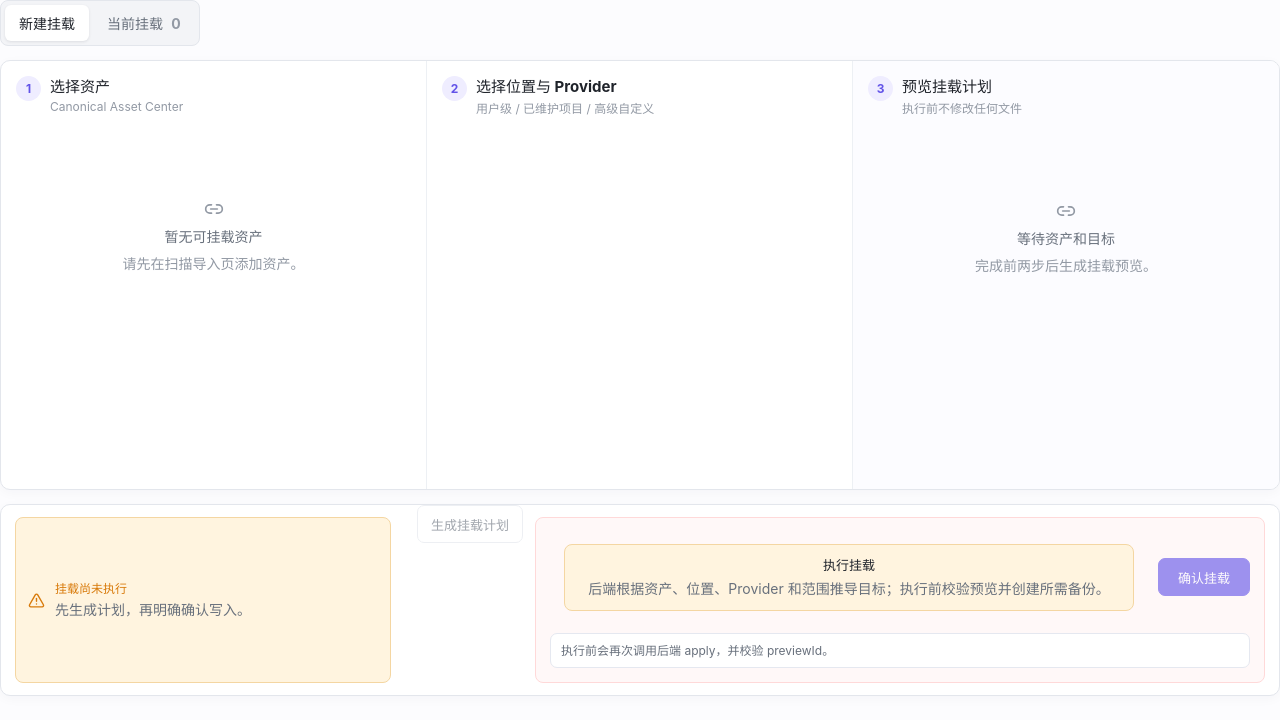
Test: remaining V1 static pages › updates the Mount asset and target preview
Expected: the text "暂无可挂载资产" is shown, [164,226,262,246]
Click the tab "当前挂载 0".
click(144, 23)  # box [93,5,195,41]
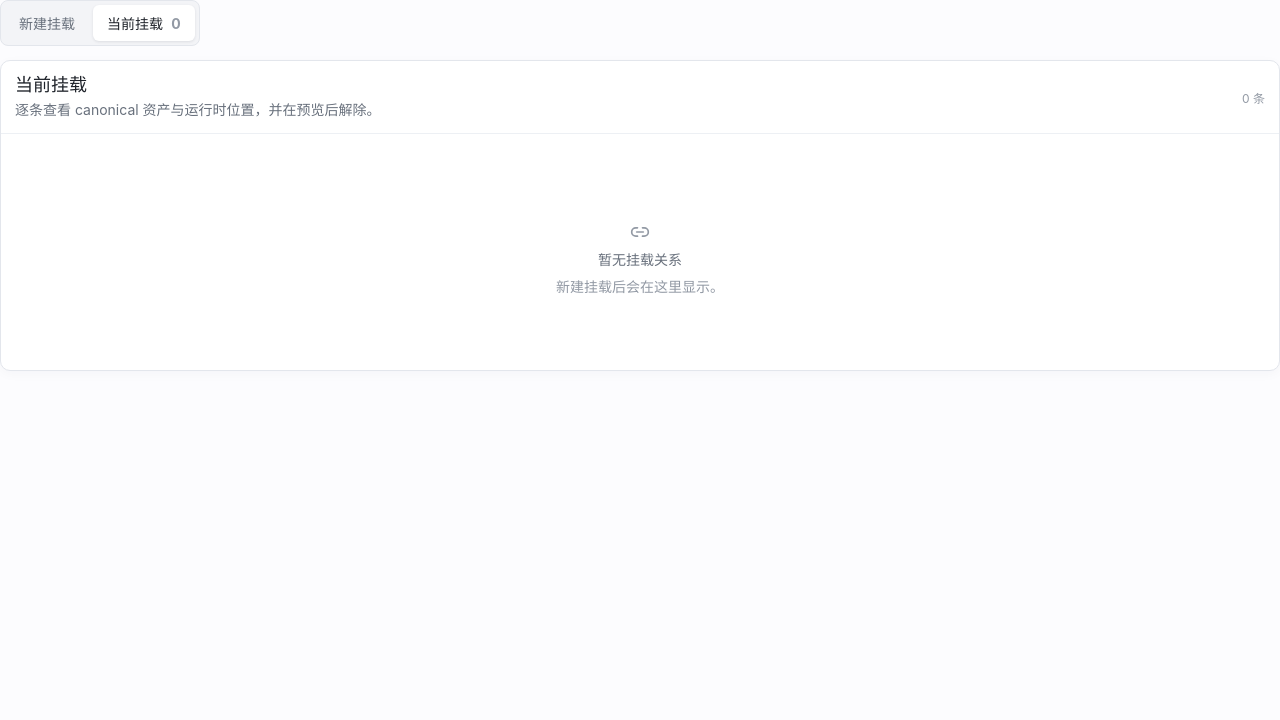
Result: the text "暂无挂载关系" is shown at [598,249,682,269]
